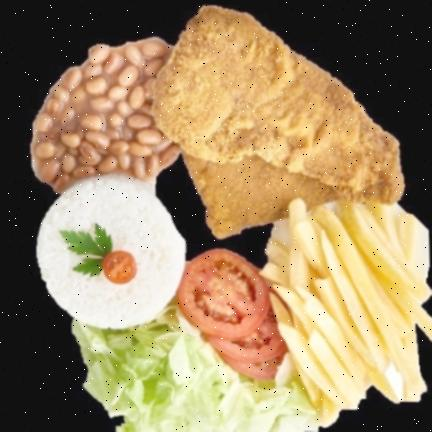beans: (31, 40, 179, 193)
chicken: (152, 7, 403, 238)
potato: (261, 201, 432, 424)
rice: (73, 303, 319, 432), (38, 175, 185, 329)
tomato: (175, 250, 287, 379), (103, 252, 135, 284)
